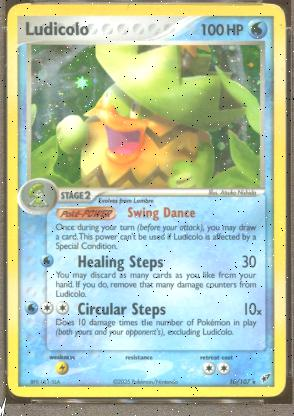Card: (5, 0, 287, 400)
Scratch: (276, 22, 282, 30), (126, 2, 129, 10)
